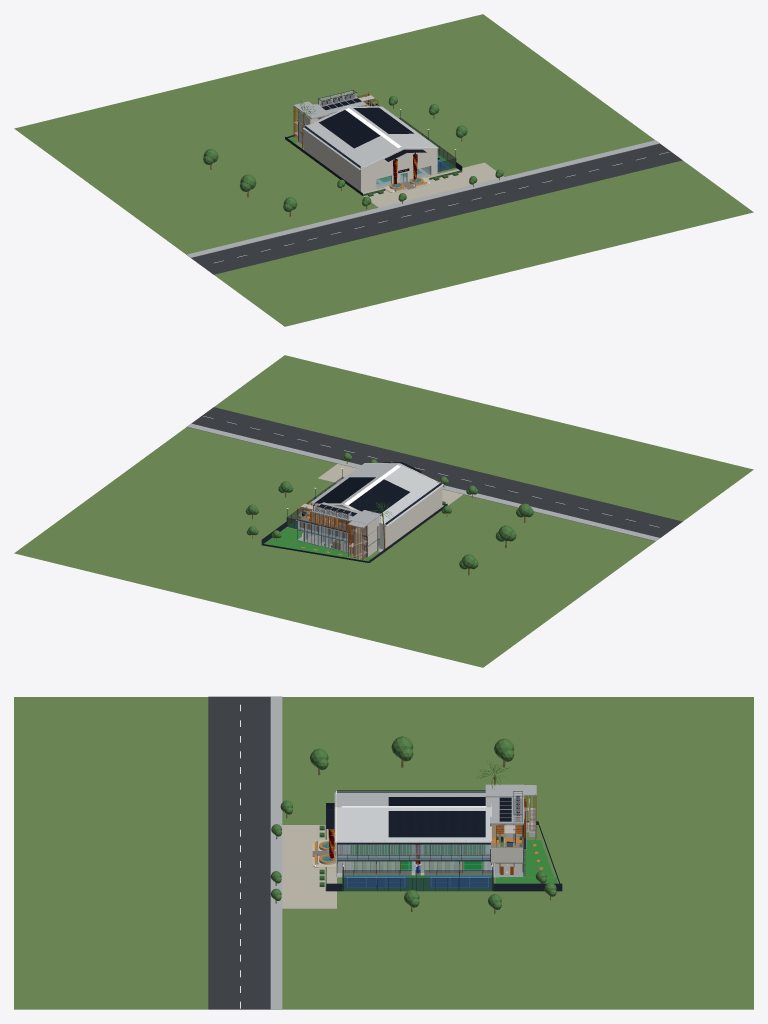
The model's file is MyPlace_Master_vR53.dae.
3 renders of one model, top to bottom at view 1: azimuth 30°, elevation 25°; view 2: azimuth 150°, elevation 25°; view 3: azimuth 270°, elevation 25°, orthographic. The views are drawn at different scales.
Visible parts, largest first — view 1: site__grass, site__asphalt, hall_shell__plaster, hall_roof__roofSheet, site__concrete, hall_roof__solar, site__paving, trees__treeCrown, rear_roof__concrete; view 2: site__grass, site__asphalt, hall_roof__roofSheet, site__concrete, hall_roof__solar, hall_shell__plaster, trees__treeCrown, outdoor__turf, fences__charcoal, site__paving, rear_roof__concrete; view 3: site__grass, site__asphalt, hall_roof__roofSheet, site__paving, site__concrete, hall_roof__solar, outdoor__mat_1f2937, hall_shell__glass, trees__treeCrown, hall_interior__court, outdoor__pickleTex, east_catwalk__louvre (+11 smaller).
Part boxes in pixels (x1,y1,x2,y2): site__grass: (14,14,753,326); site__asphalt: (191,143,682,274); hall_shell__plaster: (304,106,437,192); hall_roof__roofSheet: (303,106,438,169); site__concrete: (187,140,659,257); hall_roof__solar: (319,107,413,148); site__paving: (362,162,503,207); trees__treeCrown: (203,96,503,211); rear_roof__concrete: (293,96,366,119); site__grass: (14,355,753,667); site__asphalt: (191,407,682,537); hall_roof__roofSheet: (308,463,443,526); site__concrete: (186,423,659,551); hall_roof__solar: (314,477,409,513); hall_shell__plaster: (310,463,442,549); trees__treeCrown: (245,452,533,569); outdoor__turf: (264,527,371,561); fences__charcoal: (261,503,447,562); site__paving: (318,464,462,506); rear_roof__concrete: (311,502,381,528); site__grass: (14,697,753,1009); site__asphalt: (208,696,270,1009); hall_roof__roofSheet: (334,792,490,842); site__paving: (282,825,494,908); site__concrete: (270,696,499,1009); hall_roof__solar: (388,797,485,837); outdoor__mat_1f2937: (342,870,493,890); hall_shell__glass: (337,844,490,859); trees__treeCrown: (270,736,556,909); hall_interior__court: (350,845,485,870); outdoor__pickleTex: (345,876,490,888); east_catwalk__louvre: (337,845,485,854).
Bounding box in the file's own units: 160 × 160 × 16.22.
72 materials, 6 textured.
